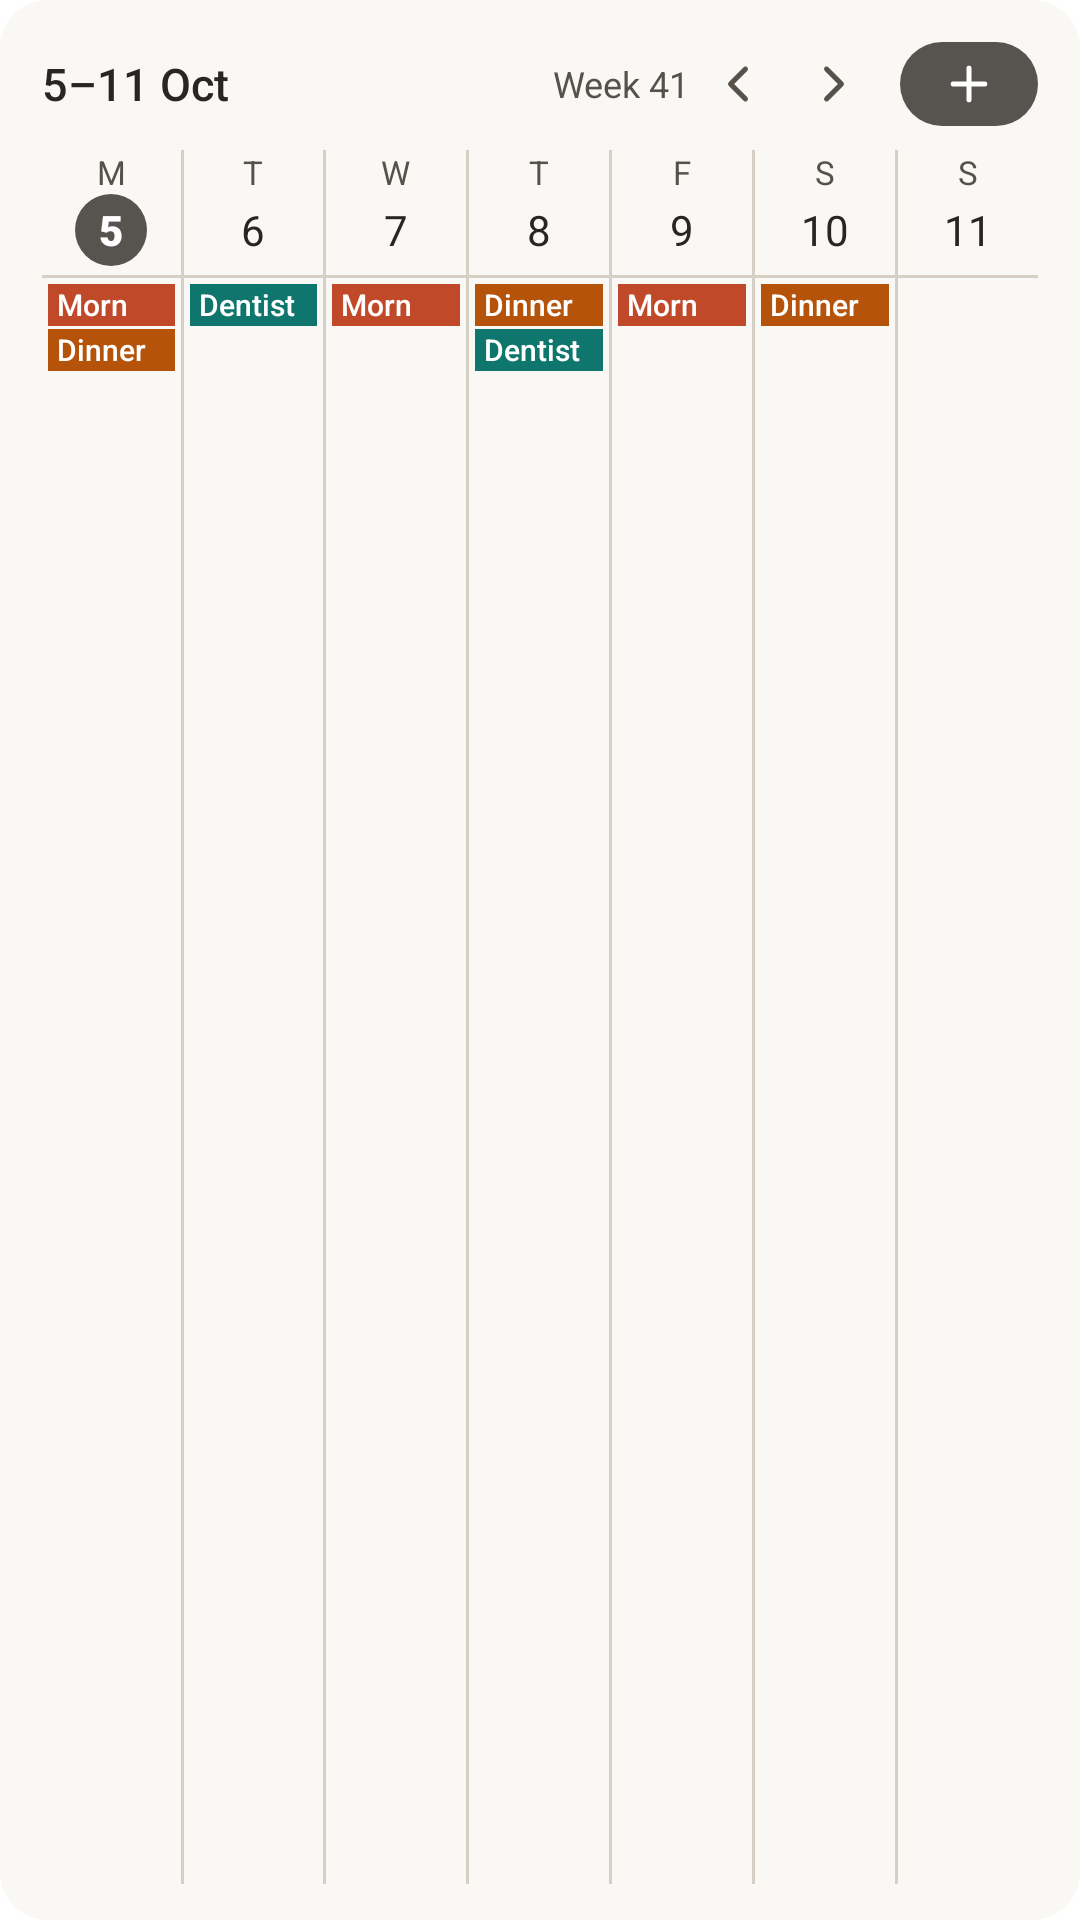

Screen size 1080w x 1920h. Icon name, then its center in pixels as (x,y):
widget chevron left: (738,84)
widget chevron right: (834,84)
widget plus: (969,84)
